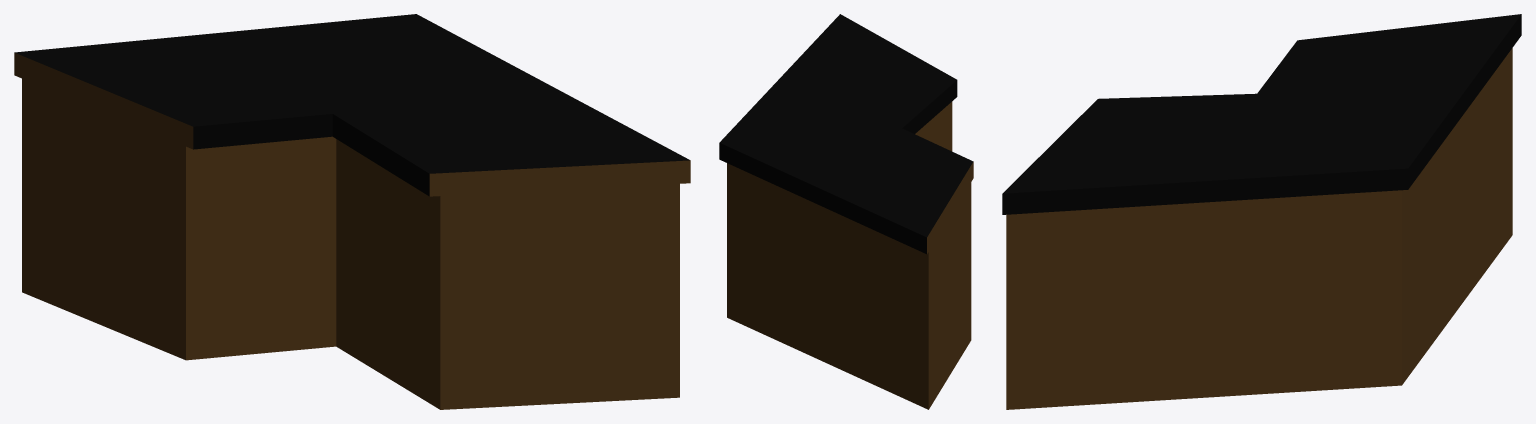
The model's file is counter_corner.fbx.
3 views of the same model, side by side, from view 1: azimuth 30°, elevation 25°; view 2: azimuth 150°, elevation 25°; view 3: azimuth 270°, elevation 25° (orthographic). The views are drawn at different scales.
Visible parts, largest first — view 1: Cube; view 2: Cube; view 3: Cube.
Boxes of the visible parts, box(x1,y1,x2,y2) form: Cube: box(14, 14, 690, 409); Cube: box(719, 14, 973, 409); Cube: box(1002, 14, 1521, 409).
Size of the model in its own units: 820 by 468 by 1001.
